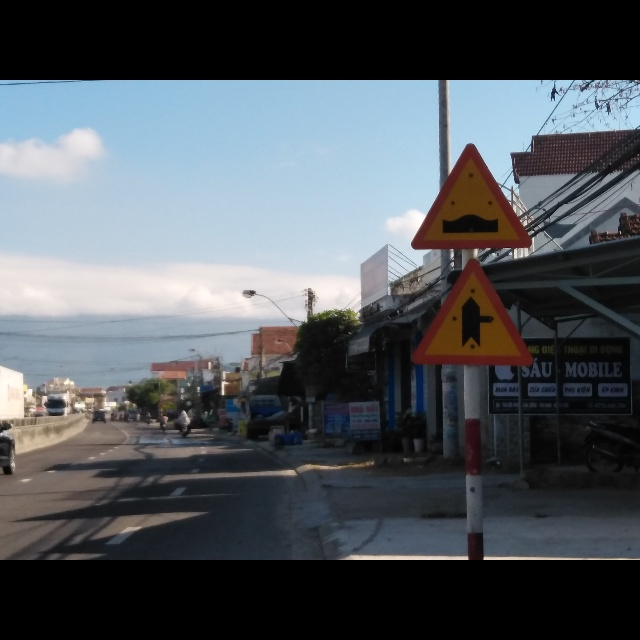Giao nhau với đường không ưu tiên: (411, 259, 538, 368)
Đường không bằng phẳng: (411, 143, 530, 250)
